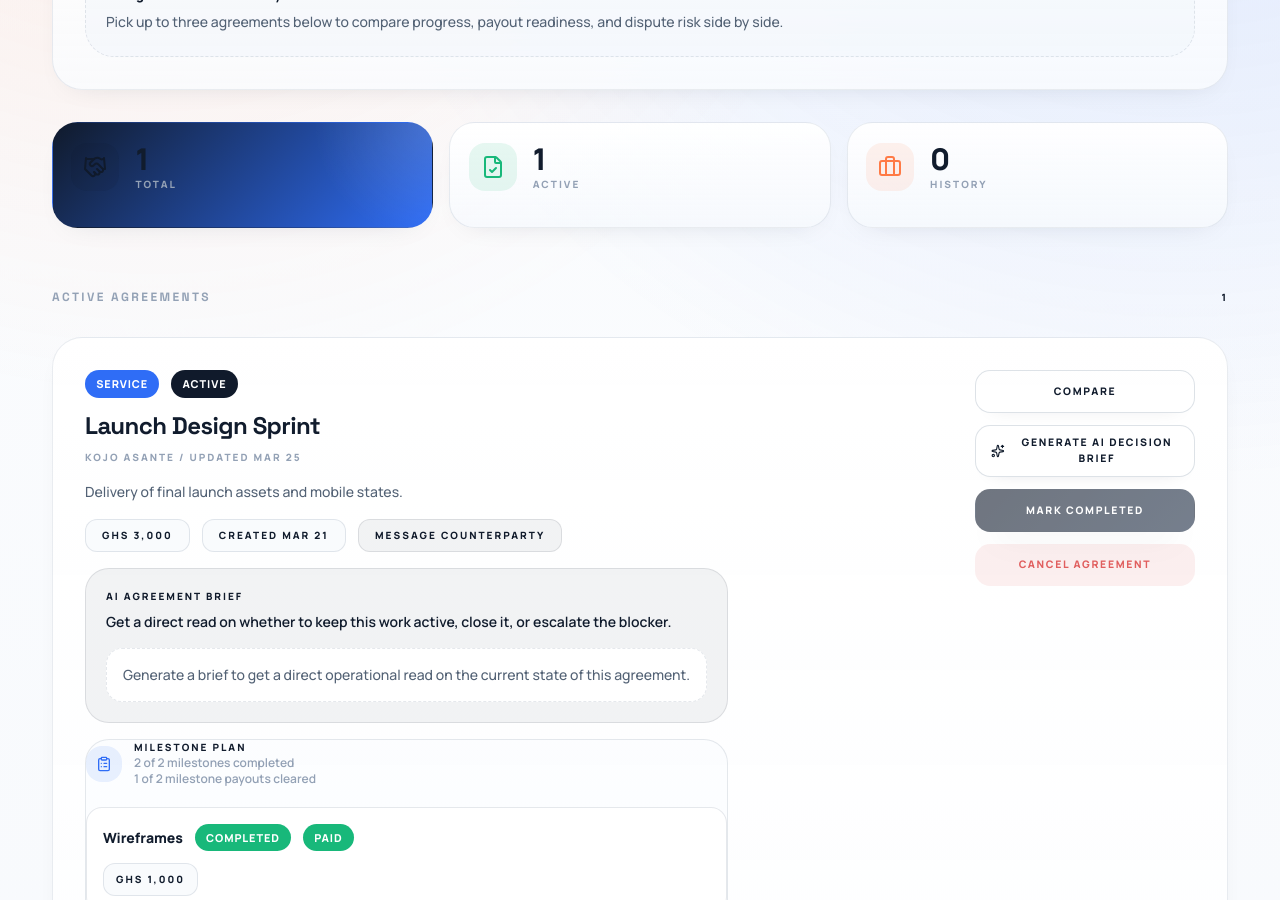
Test: Agreements lifecycle flow › generates an AI decision brief for an active agreement
(page scrolled)
Expected: the heading "Launch Design Sprint" is shown, top-left (85, 410), bottom-right (320, 440)
Click the button "Generate AI Decision Brief".
click(1085, 451)  # box top-left (975, 425), bottom-right (1195, 477)
(page scrolled)
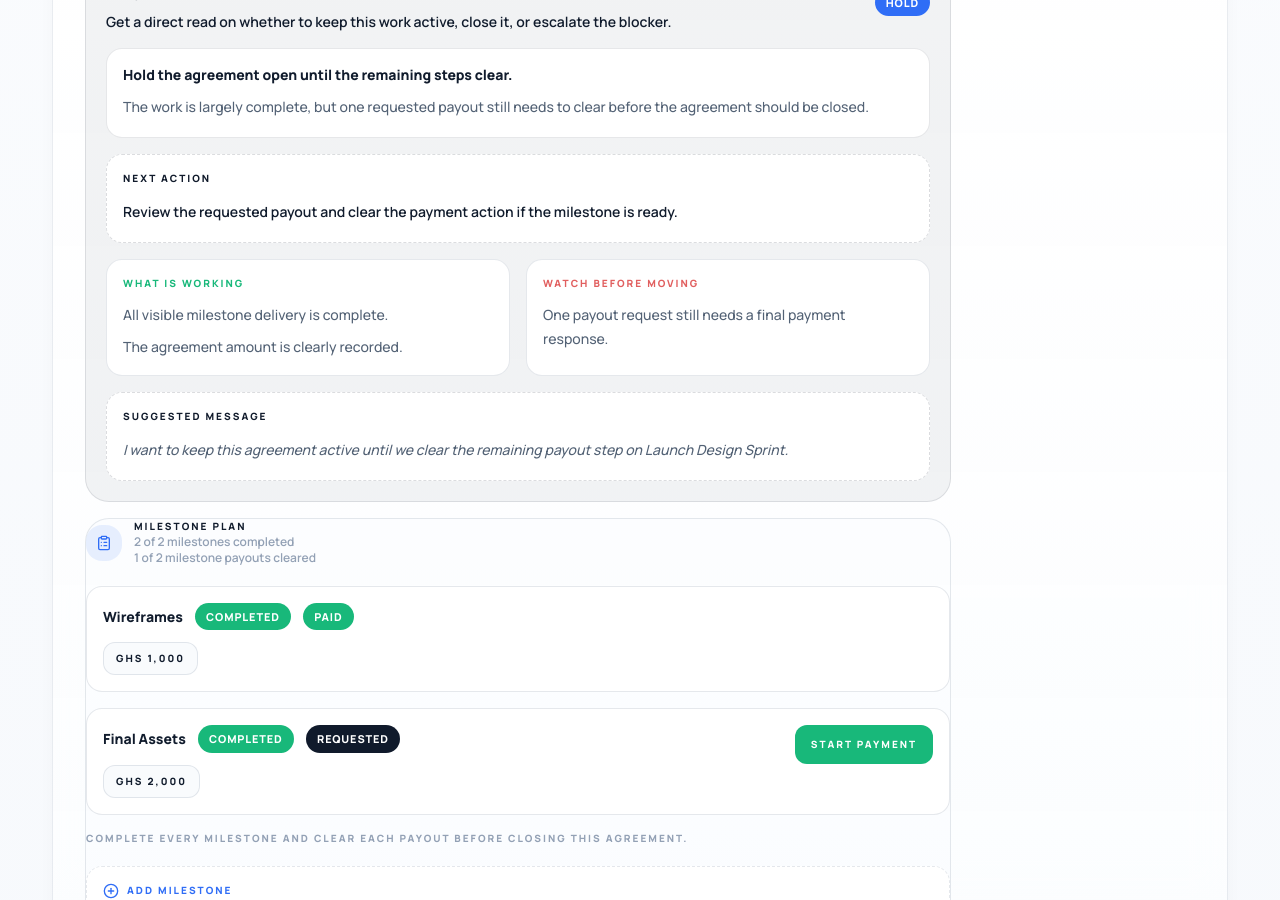
Result: the text "Hold the agreement open until the remaining steps clear." is shown at top-left (123, 65), bottom-right (512, 84)
Result: the text "Review the requested payout and clear the payment action if the milestone is ready." is shown at top-left (123, 202), bottom-right (678, 221)
Result: the text "I want to keep this agreement active until we clear the remaining payout step on Launch Design Sprint." is shown at top-left (123, 440), bottom-right (788, 459)
